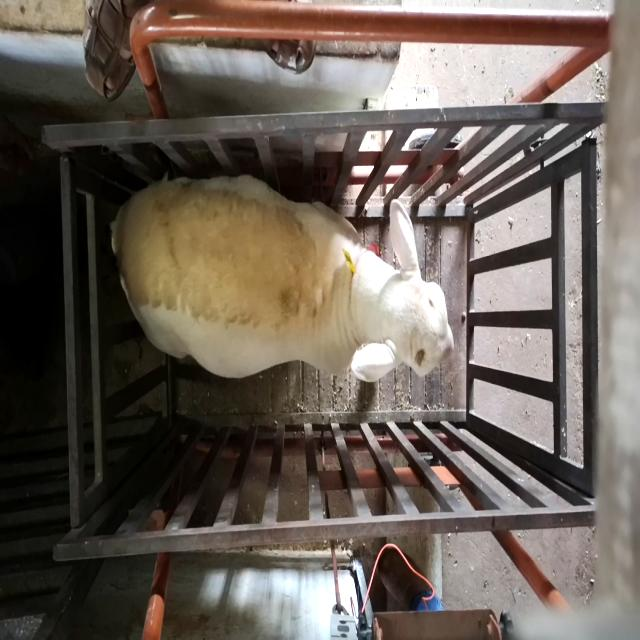sheep: (111, 175, 454, 383)
